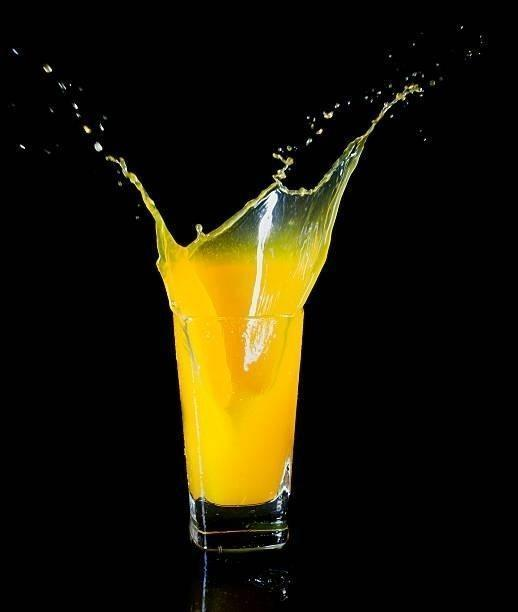glass-normal: (168, 307, 307, 552)
